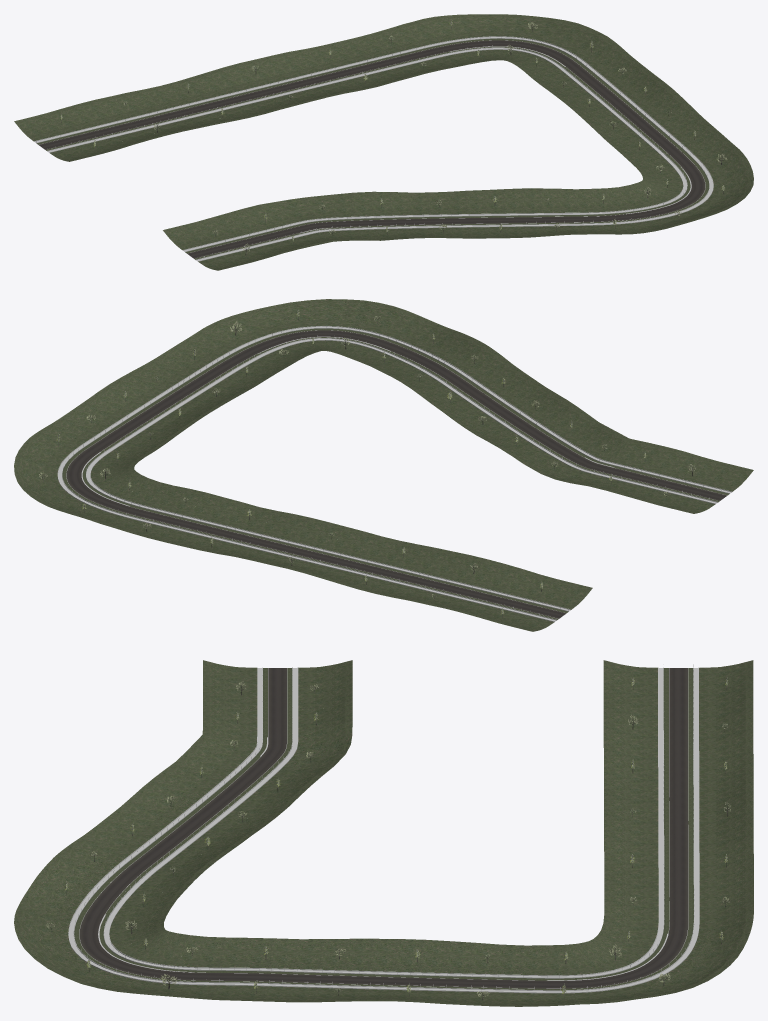
The picture shows the model from 3 angles, top to bottom: view 1: azimuth 30°, elevation 25°; view 2: azimuth 150°, elevation 25°; view 3: azimuth 270°, elevation 25°; orthographic projection. The views are drawn at different scales.
Parts seen in each view (by area): view 1: Grass, Road, Track, Trees; view 2: Grass, Road, Track, Trees; view 3: Grass, Road, Track, Trees.
Part boxes in pixels (x1,y1,x2,y2): Grass: (14, 14, 753, 270); Road: (38, 40, 705, 258); Track: (34, 36, 713, 261); Trees: (60, 19, 727, 255); Grass: (14, 299, 753, 631); Road: (66, 330, 727, 618); Track: (57, 325, 731, 621); Trees: (39, 310, 695, 617); Grass: (14, 660, 753, 1006); Road: (79, 668, 688, 988); Track: (68, 664, 699, 993); Trees: (45, 677, 730, 999).
Size of what is drawn, in the model's own units: 77165 by 2250 by 69225.
